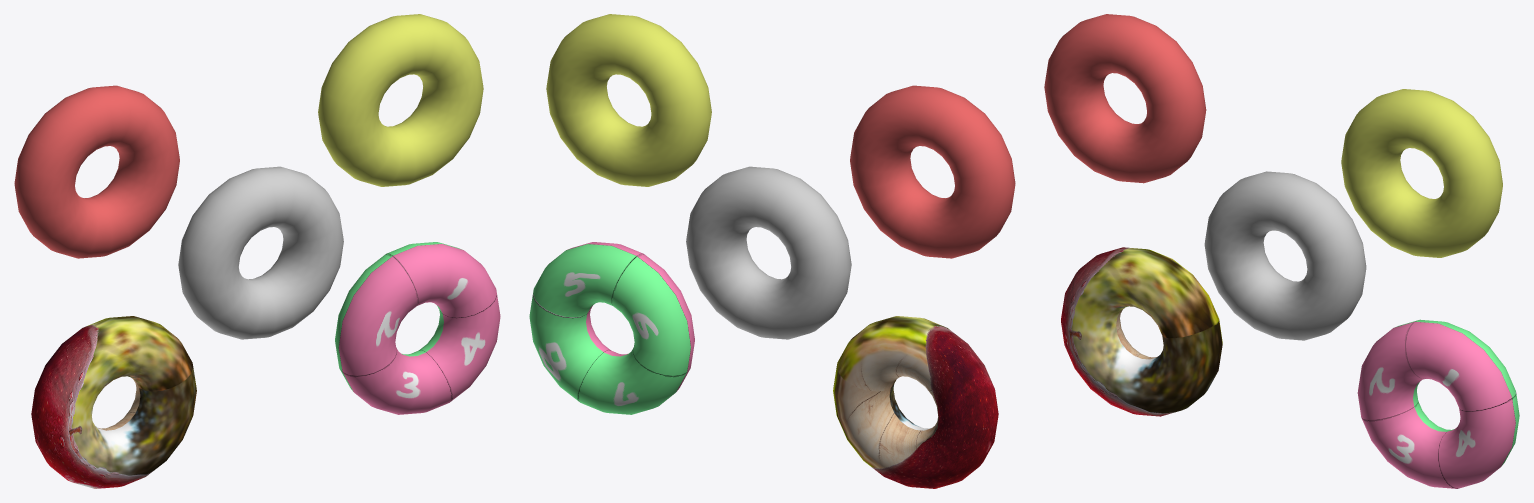
File: donuts.fbx
3 views of the same model, side by side, from view 1: azimuth 30°, elevation 25°; view 2: azimuth 150°, elevation 25°; view 3: azimuth 330°, elevation 25° (orthographic). The views are drawn at different scales.
Visible parts, largest first — view 1: pTorus6; view 2: pTorus6; view 3: pTorus6.
Part boxes in pixels (left/top/right/bottom): pTorus6: left=14, top=14, right=500, bottom=488; pTorus6: left=529, top=14, right=1015, bottom=488; pTorus6: left=1044, top=14, right=1519, bottom=488.
Bounding box in the file's own units: 9.09 × 7.26 × 1.
